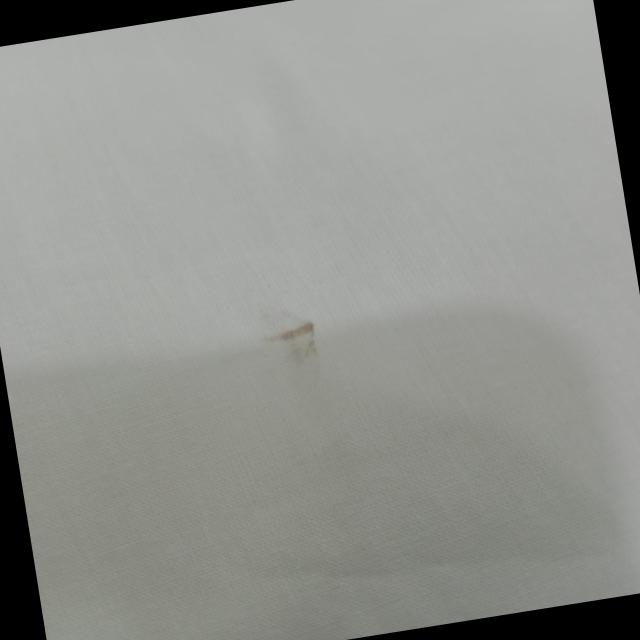stain: (255, 302, 337, 382)
